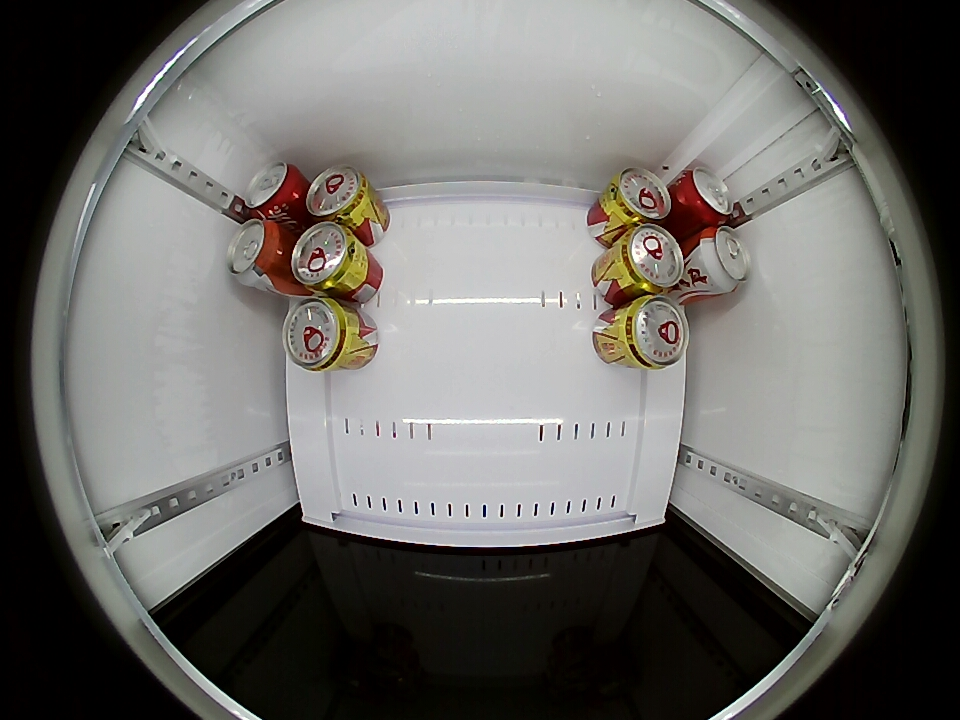dongpeng: (283, 296, 357, 371), (616, 295, 689, 370), (290, 221, 363, 295), (615, 224, 685, 295), (606, 166, 672, 226), (305, 165, 371, 223)
jianlibao: (226, 217, 282, 287), (696, 226, 751, 294)
kele: (676, 166, 736, 225), (243, 161, 302, 219)
